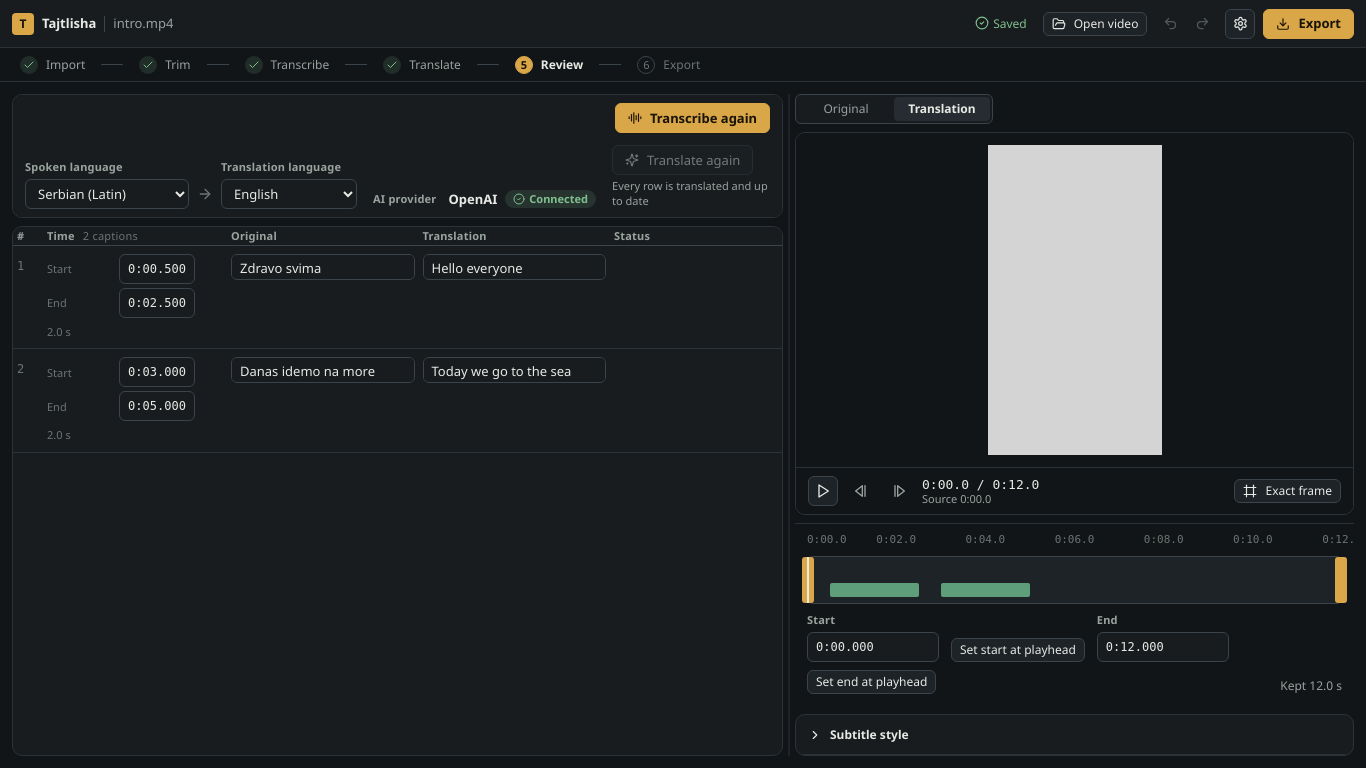
Test case: App shell › shows the AppError message for a failed job and keeps the detail expandable
Expected: the 1st text box showing "Zdravo svima" is shown, [231,254,414,280]
Expected: the element with class "generate-panel" is shown, [13,95,782,217]
Step 1. Click the button "Transcribe again" → (692, 118), box [615,103,770,133]
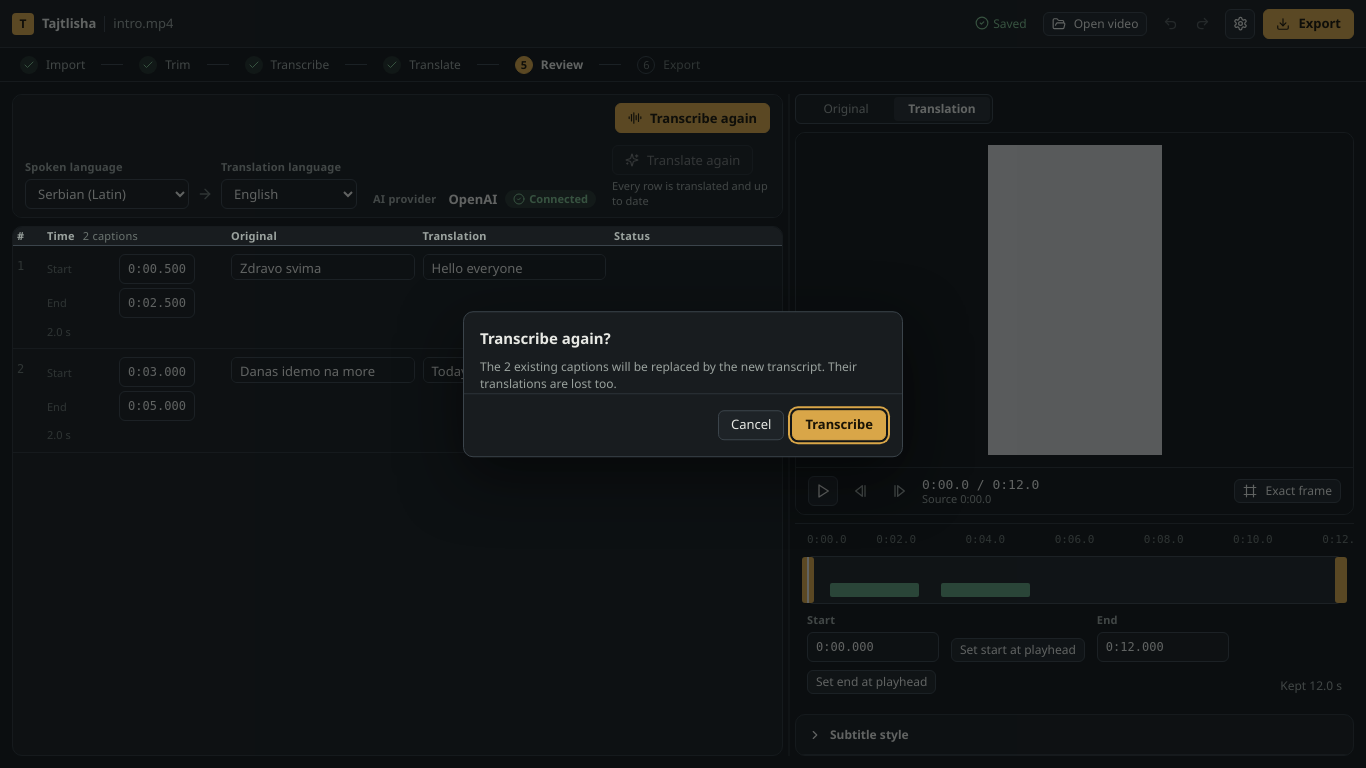
Step 2. Click the button "Transcribe" → (839, 425), box [792,410,886,440]
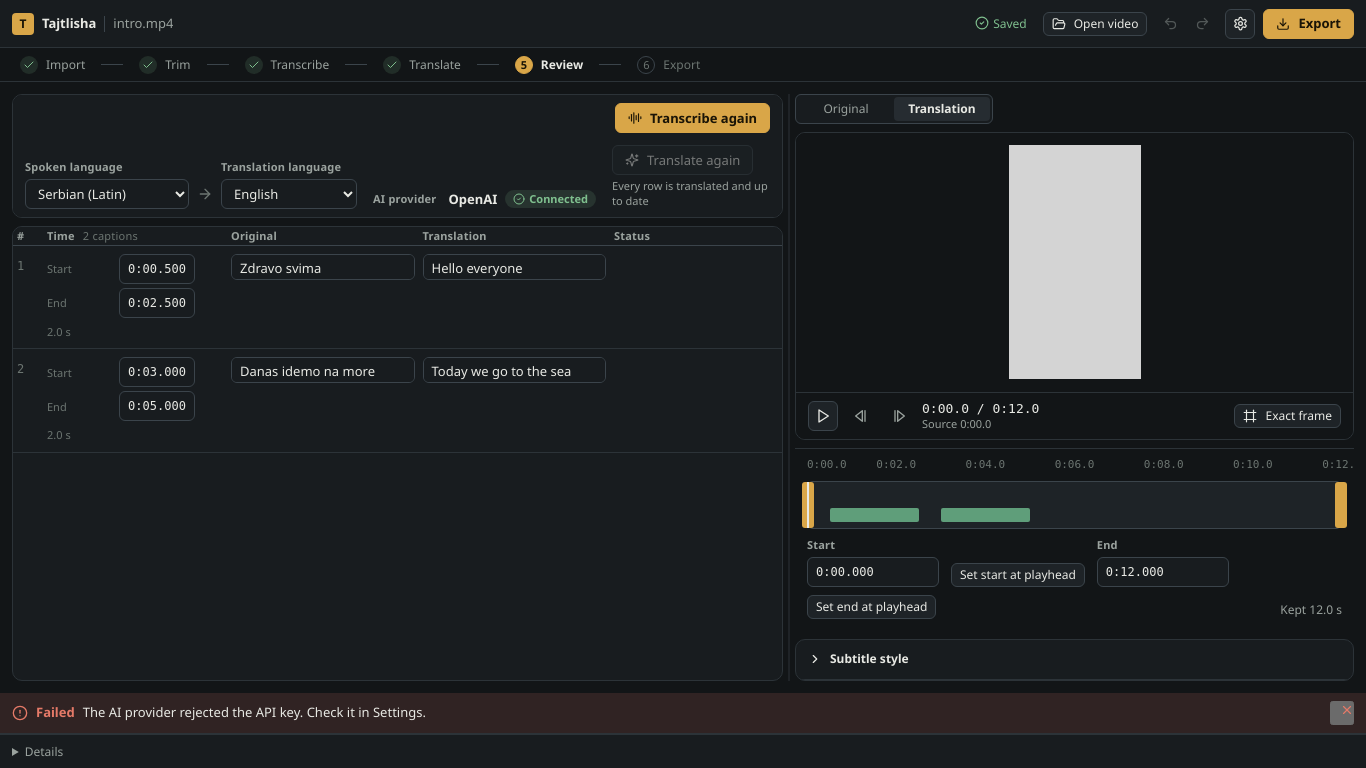
Expected: the text "The AI provider rejected the API key. Check it in Settings." is shown, [83,703,426,721]
Expected: the heading "Details" is shown, [25,743,63,760]
